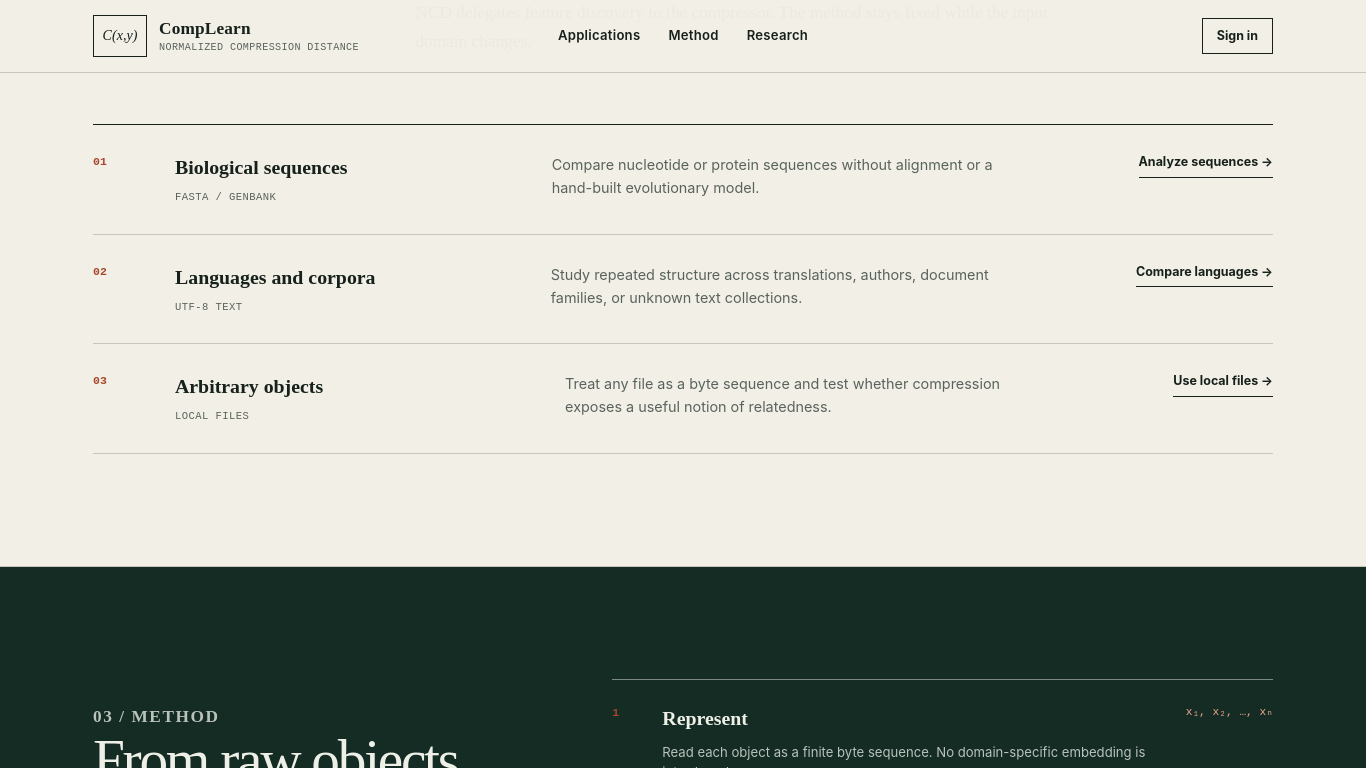
Test case: scientific landing page › opens the selected analysis workflow without a page reload
(page scrolled)
Expected: the button "Sign in" is shown, [1202,18,1273,54]
Click the button "Use local files →" at (1223, 385), box [1173,372,1273,397]
(page scrolled)
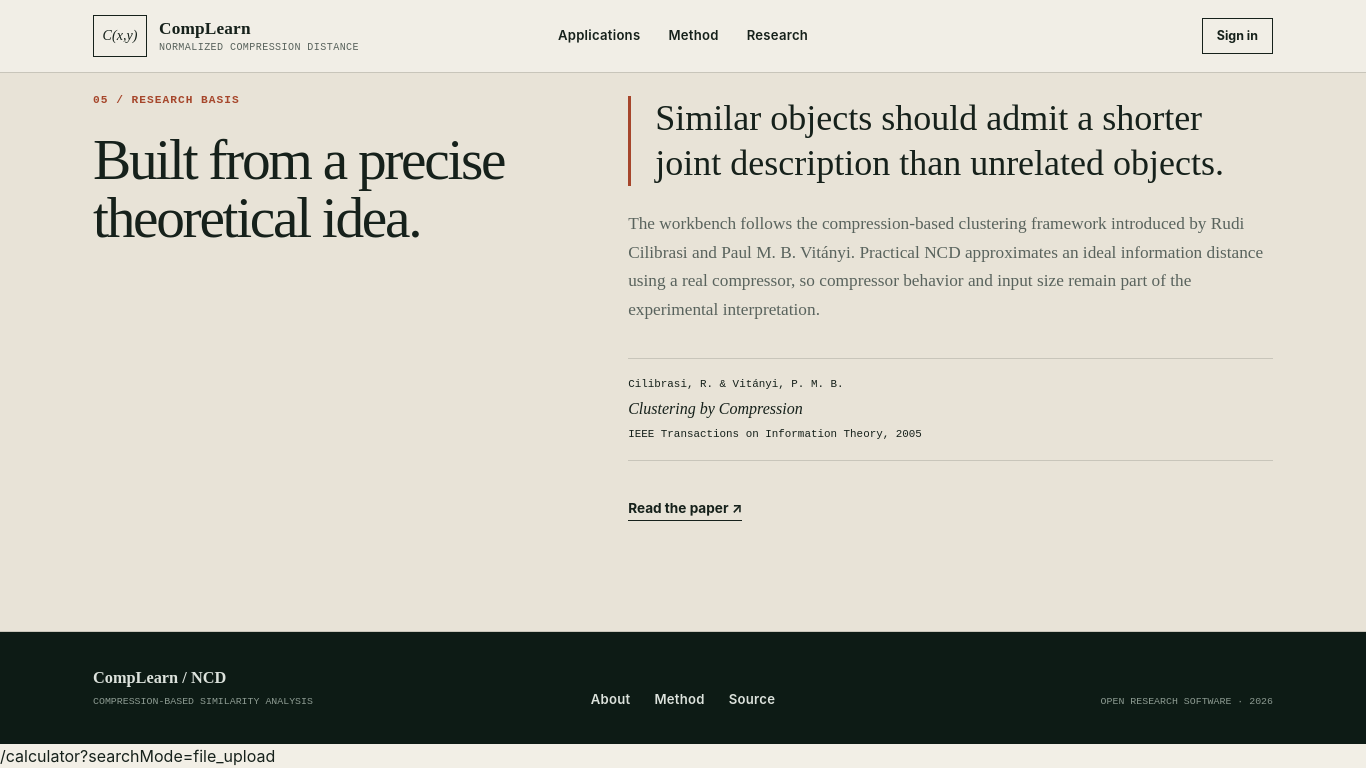
Expected: the text with test id "location" reads "/calculator?searchMode=file_upload", [0,746,275,766]
